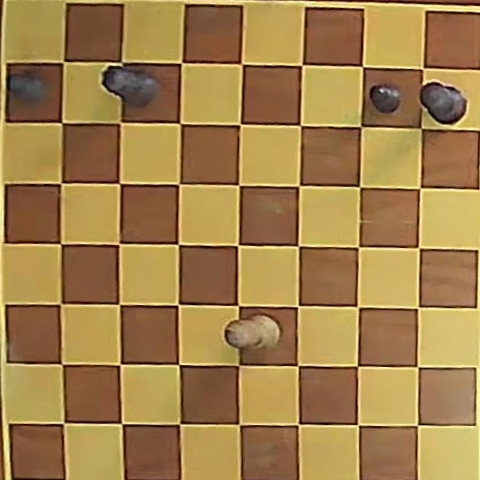black-king: (419, 82, 467, 124)
black-pawn: (9, 71, 49, 103), (370, 83, 402, 113)
black-queen: (103, 66, 159, 108)
white-king: (225, 315, 281, 350)
